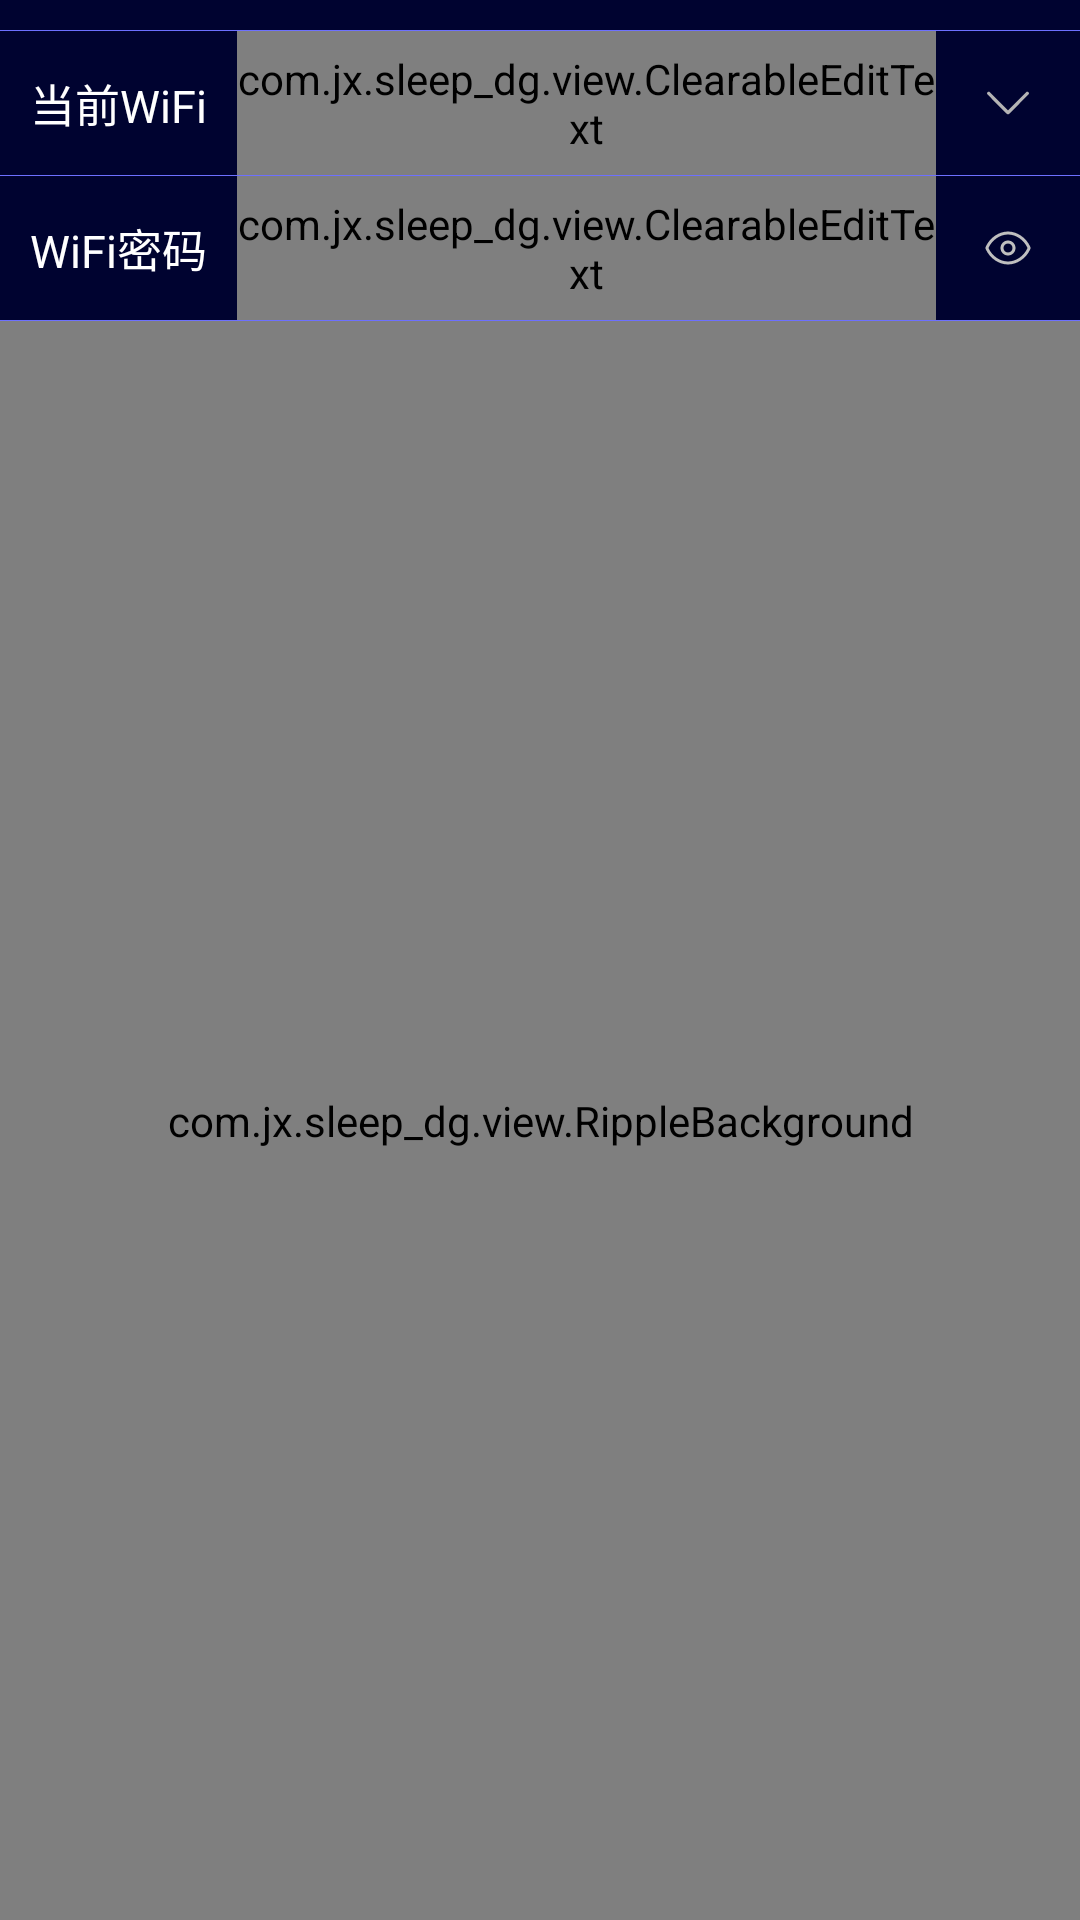

Icons on this 1080*1920 Android screen, each with the point to tap as (x,y):
arrow down: (1008,103)
password hidden: (1008,248)
